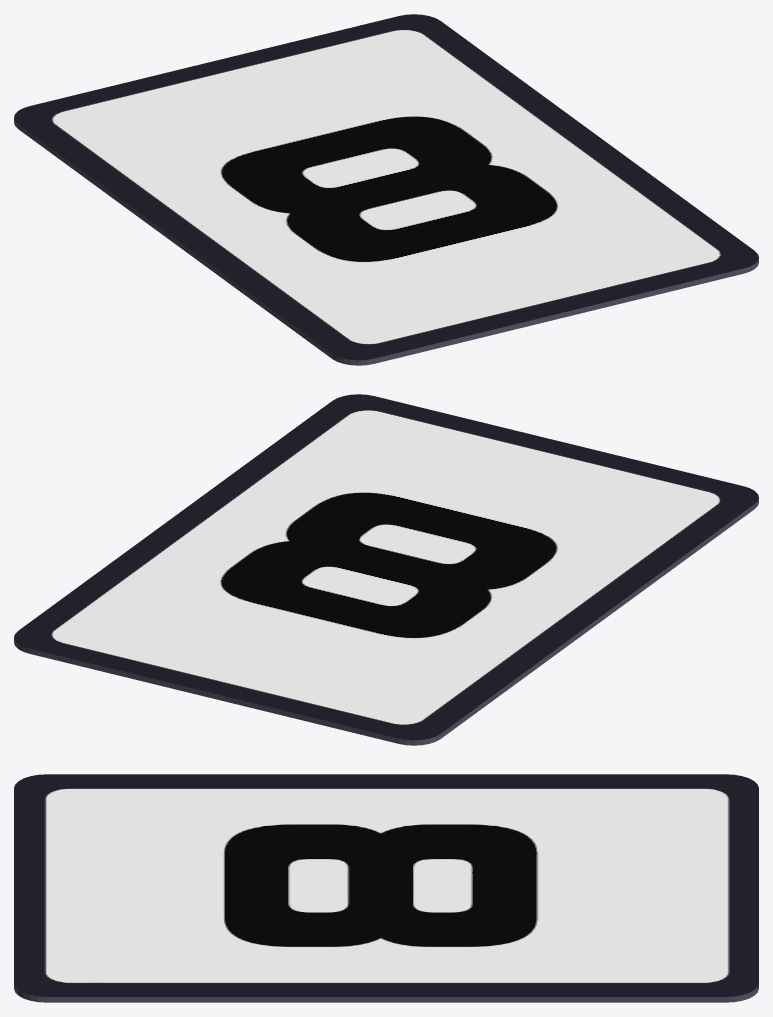
The picture shows the model from 3 angles, top to bottom: view 1: azimuth 30°, elevation 25°; view 2: azimuth 150°, elevation 25°; view 3: azimuth 270°, elevation 25°; orthographic projection. The views are drawn at different scales.
Visible parts, largest first — view 1: 立方体; view 2: 立方体; view 3: 立方体.
Part boxes in pixels (x1,y1,x2,y2): 立方体: (14, 14, 758, 365); 立方体: (14, 394, 758, 745); 立方体: (14, 774, 758, 1002).
Bounding box in the file's own units: 8.4 × 0.1 × 11.88.
3 materials, 2 textured.
